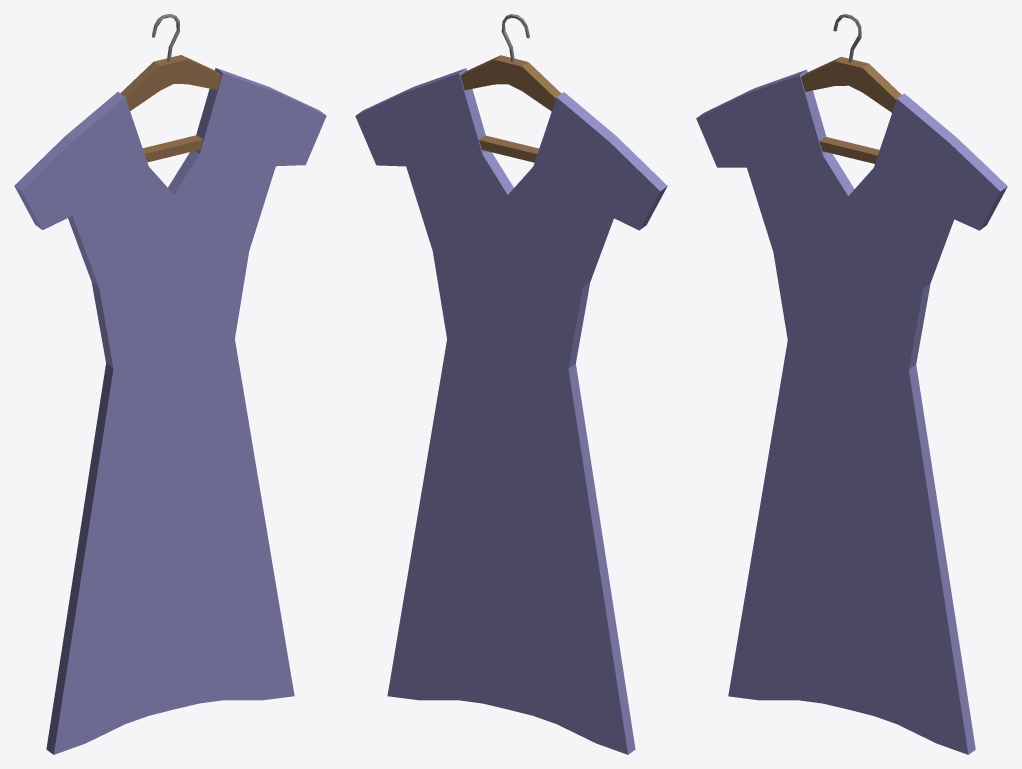
The model's file is Clothes7_C2.fbx.
3 renders of one model, left to right at view 1: azimuth 30°, elevation 25°; view 2: azimuth 150°, elevation 25°; view 3: azimuth 330°, elevation 25°, orthographic.
Parts seen in each view (by area): view 1: Clothes7_C2; view 2: Clothes7_C2; view 3: Clothes7_C2.
Boxes of the visible parts, x1=… form: Clothes7_C2: x1=14, y1=14, x2=326, y2=754; Clothes7_C2: x1=355, y1=14, x2=667, y2=754; Clothes7_C2: x1=696, y1=14, x2=1007, y2=754.
Bounding box in the file's own units: 49.29 × 109 × 2.07.
